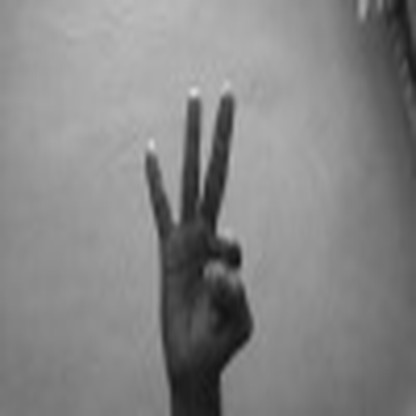f: (128, 67, 281, 376)
